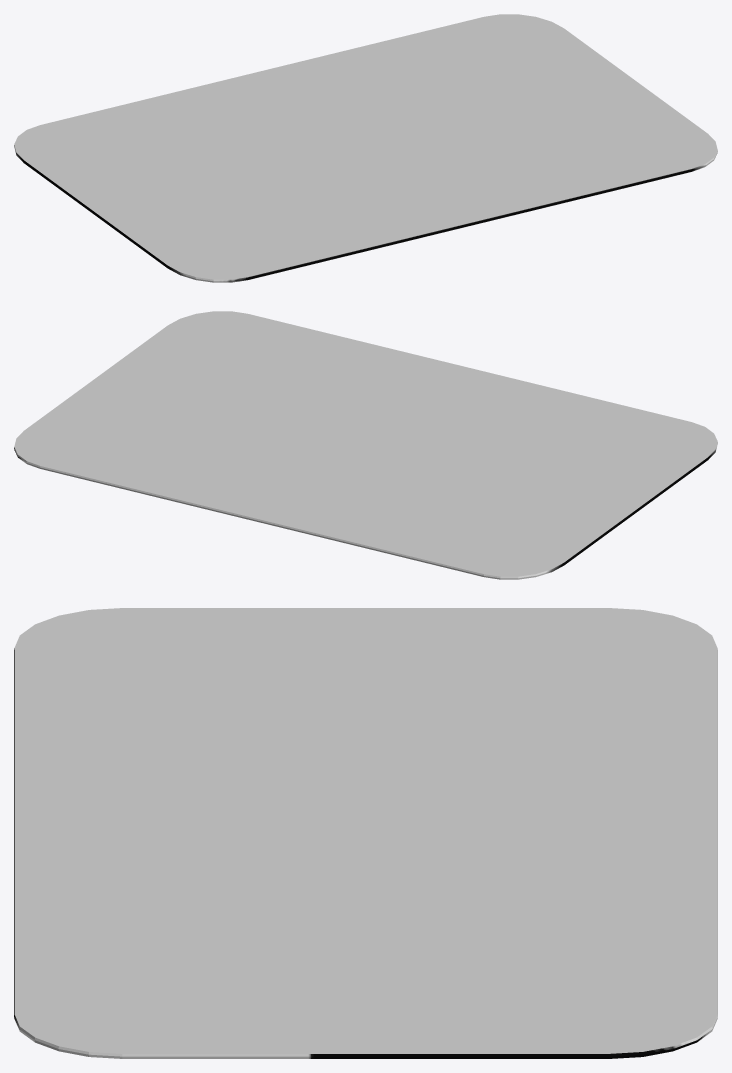
The model's file is card(4mm more vertex).fbx.
3 renders of one model, top to bottom at view 1: azimuth 30°, elevation 25°; view 2: azimuth 150°, elevation 25°; view 3: azimuth 270°, elevation 25°, orthographic. The views are drawn at different scales.
Parts seen in each view (by area): view 1: Cube; view 2: Cube; view 3: Cube.
Boxes of the visible parts, bbox=[...] form: Cube: bbox=[14, 14, 717, 282]; Cube: bbox=[14, 311, 717, 579]; Cube: bbox=[14, 608, 717, 1058].
Size of the model in its own units: 75 by 0.4 by 50.
